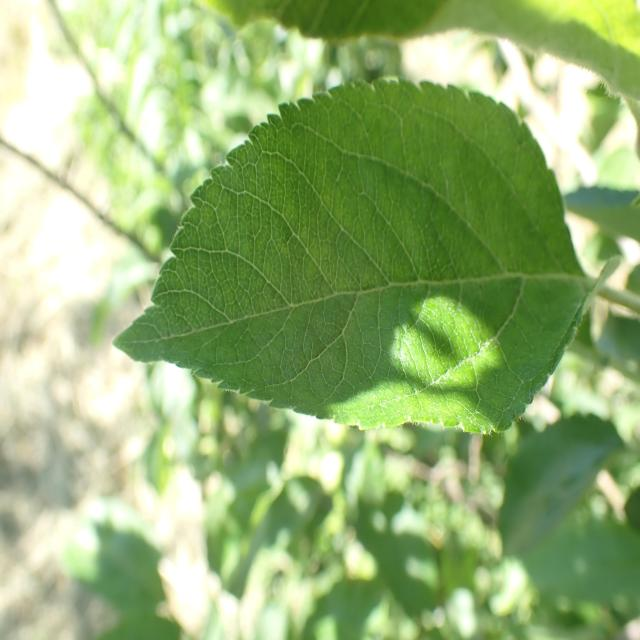healthy: (114, 77, 594, 437)
